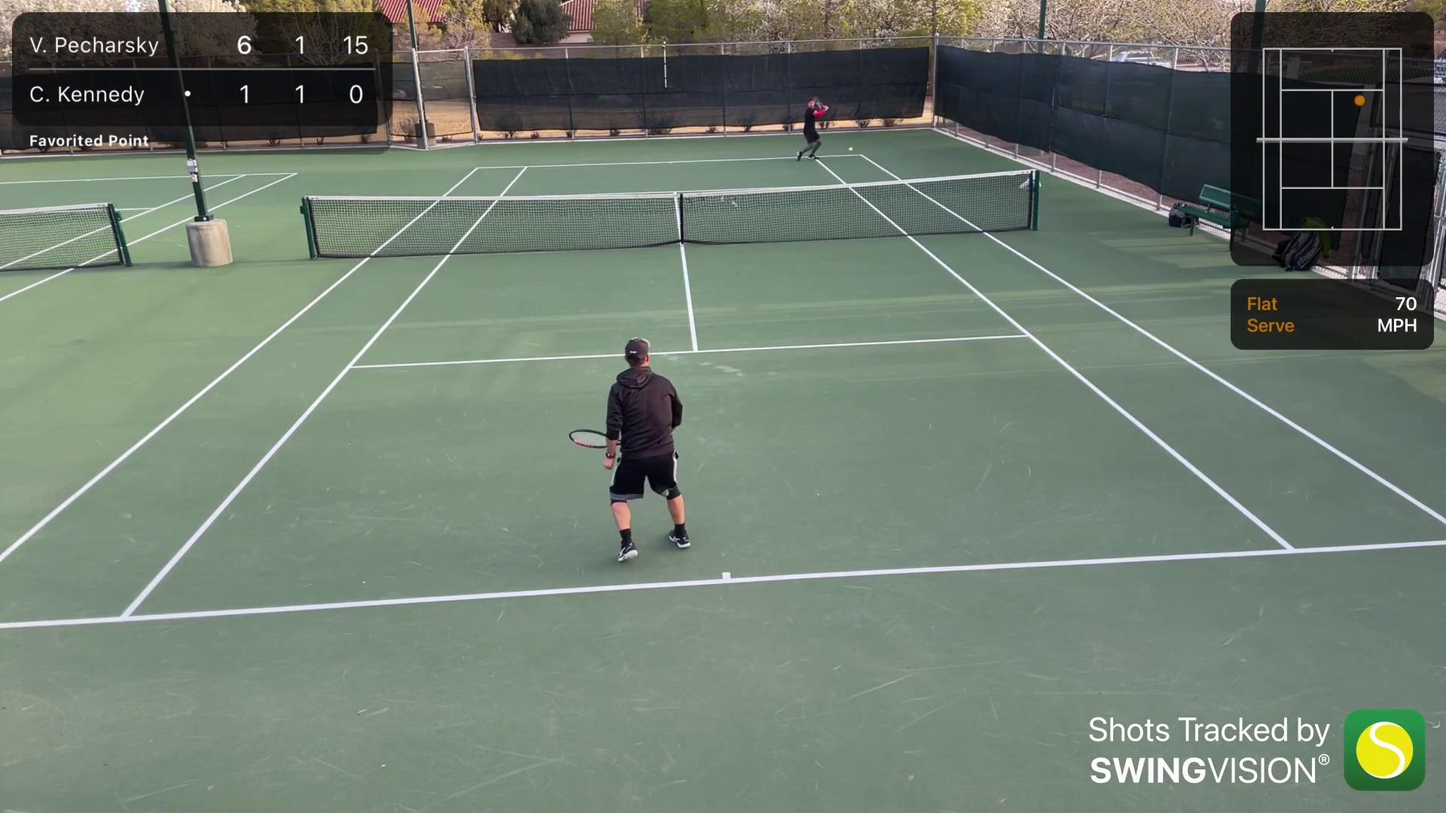ball: (847, 146, 854, 152)
